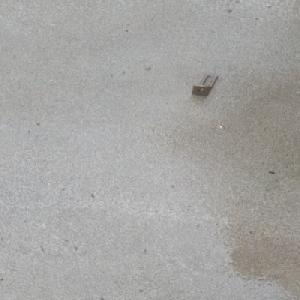MetalPart: (189, 72, 220, 96)
